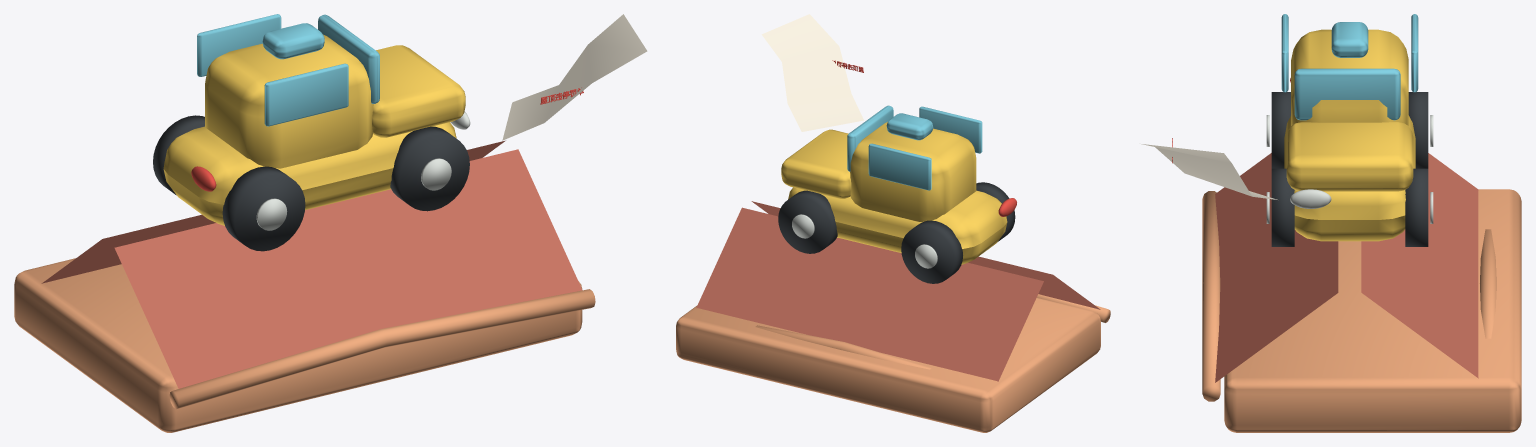
The model's file is X03_Rooftop_School_Patrol_Car.glb.
3 renders of one model, left to right at view 1: azimuth 30°, elevation 25°; view 2: azimuth 150°, elevation 25°; view 3: azimuth 270°, elevation 25°, orthographic. The views are drawn at different scales.
Visible parts, largest first — view 1: X03_ROOF_STATIC | Old red school clay roof tiles, X03_ROOF_STATIC | Campus terracotta faded crest trim, X03_CAR_ACTOR | Bright toy school patrol taxi yellow, X03_CAR_ACTOR | Actual rubber black tire, X03_CAR_ACTOR | School patrol tinted sky-blue windscreen, X03 actual whipping roof parking fine receipt, X03_CAR_ACTOR | Silver polished hubcaps; view 2: X03_ROOF_STATIC | Old red school clay roof tiles, X03_ROOF_STATIC | Campus terracotta faded crest trim, X03_CAR_ACTOR | Bright toy school patrol taxi yellow, X03 actual whipping roof parking fine receipt, X03_CAR_ACTOR | Actual rubber black tire, X03_CAR_ACTOR | School patrol tinted sky-blue windscreen, X03_CAR_ACTOR | Silver polished hubcaps; view 3: X03_ROOF_STATIC | Campus terracotta faded crest trim, X03_ROOF_STATIC | Old red school clay roof tiles, X03_CAR_ACTOR | Bright toy school patrol taxi yellow, X03_CAR_ACTOR | School patrol tinted sky-blue windscreen, X03_CAR_ACTOR | Actual rubber black tire, X03 actual whipping roof parking fine receipt, X03_CAR_ACTOR | Silver polished hubcaps.
Part boxes in pixels (bbox=[...]): X03_ROOF_STATIC | Old red school clay roof tiles: bbox=[41, 140, 582, 388]; X03_ROOF_STATIC | Campus terracotta faded crest trim: bbox=[14, 258, 595, 432]; X03_CAR_ACTOR | Bright toy school patrol taxi yellow: bbox=[163, 34, 465, 225]; X03_CAR_ACTOR | Actual rubber black tire: bbox=[153, 115, 469, 251]; X03_CAR_ACTOR | School patrol tinted sky-blue windscreen: bbox=[197, 14, 379, 126]; X03 actual whipping roof parking fine receipt: bbox=[502, 14, 647, 140]; X03_CAR_ACTOR | Silver polished hubcaps: bbox=[256, 111, 470, 230]; X03_ROOF_STATIC | Old red school clay roof tiles: bbox=[696, 201, 1100, 381]; X03_ROOF_STATIC | Campus terracotta faded crest trim: bbox=[676, 294, 1110, 432]; X03_CAR_ACTOR | Bright toy school patrol taxi yellow: bbox=[781, 122, 1007, 264]; X03 actual whipping roof parking fine receipt: bbox=[761, 14, 863, 131]; X03_CAR_ACTOR | Actual rubber black tire: bbox=[778, 182, 1015, 283]; X03_CAR_ACTOR | School patrol tinted sky-blue windscreen: bbox=[847, 105, 982, 190]; X03_CAR_ACTOR | Silver polished hubcaps: bbox=[792, 214, 937, 268]; X03_ROOF_STATIC | Campus terracotta faded crest trim: bbox=[1202, 189, 1521, 432]; X03_ROOF_STATIC | Old red school clay roof tiles: bbox=[1215, 153, 1478, 382]; X03_CAR_ACTOR | Bright toy school patrol taxi yellow: bbox=[1284, 29, 1415, 241]; X03_CAR_ACTOR | School patrol tinted sky-blue windscreen: bbox=[1281, 14, 1418, 120]; X03_CAR_ACTOR | Actual rubber black tire: bbox=[1271, 92, 1428, 246]; X03 actual whipping roof parking fine receipt: bbox=[1141, 144, 1277, 199]; X03_CAR_ACTOR | Silver polished hubcaps: bbox=[1266, 115, 1433, 223].
Bounding box in the file's own units: 2.2 × 1.44 × 1.66.
